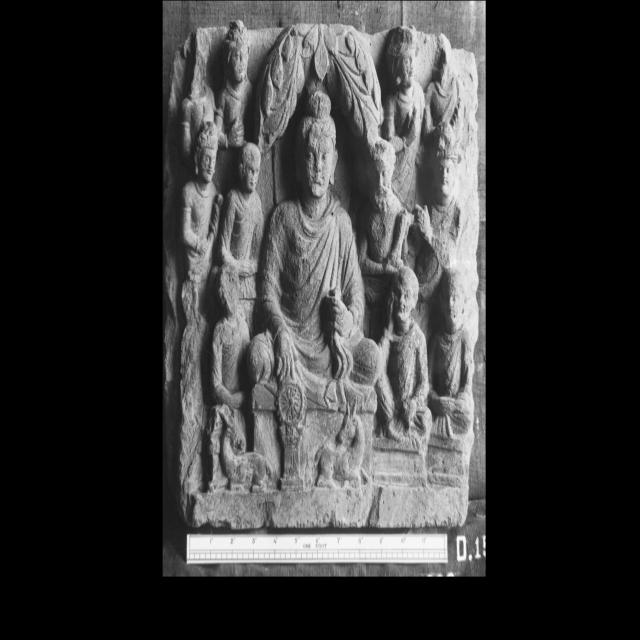buddha-sitting: (248, 89, 381, 498)
